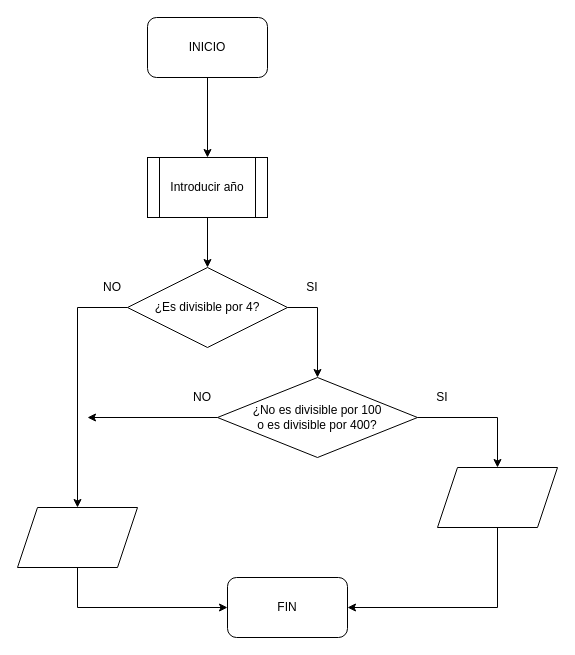
Some shapes in this 575 by 655 pixel diagram are drawn without their labels. The centre of each missing label's shape, as x and y in pixels:
"Es bisiesto" belongs at pixel 497 497.
"No es bisiesto" belongs at pixel 77 537.
